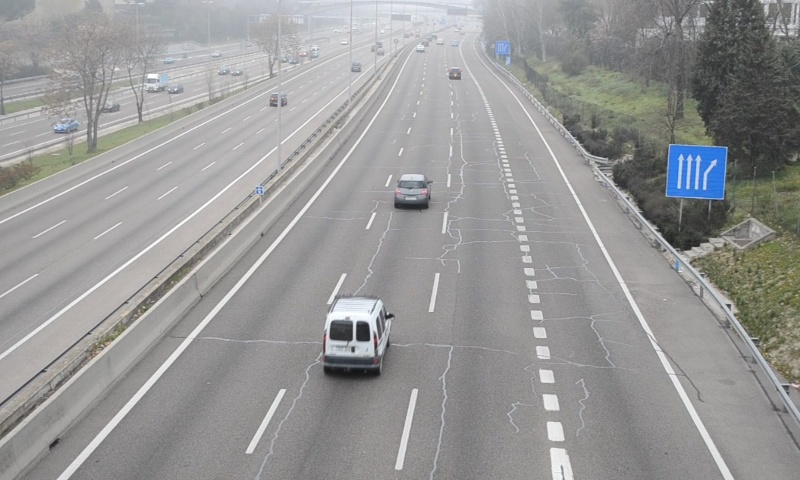car: (394, 172, 429, 207)
van: (323, 298, 389, 374)
